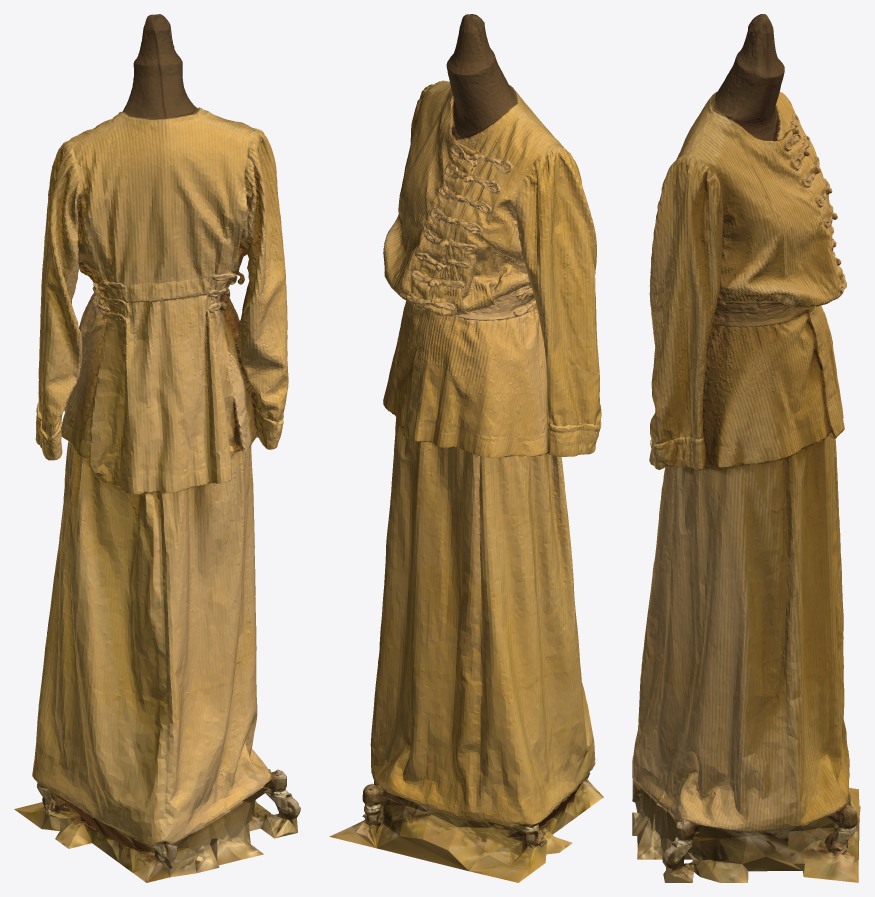
The model's file is ens-2023-14.glb.
3 renders of one model, left to right at view 1: azimuth 30°, elevation 25°; view 2: azimuth 150°, elevation 25°; view 3: azimuth 270°, elevation 25°, orthographic.
Visible parts, largest first — view 1: ENS.2023; view 2: ENS.2023; view 3: ENS.2023.
Part boxes in pixels (x1=…): ENS.2023: x1=14, y1=14, x2=300, y2=882; ENS.2023: x1=329, y1=14, x2=603, y2=882; ENS.2023: x1=632, y1=14, x2=860, y2=882.
Bounding box in the file's own units: 8.15 × 28.86 × 7.28.
Materials: 1 (1 with a texture image).
